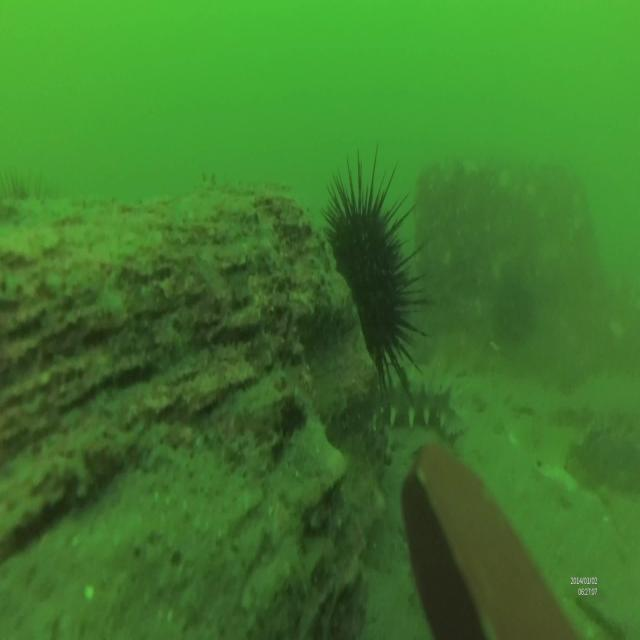echinus: (318, 144, 427, 407)
holothurian: (369, 374, 457, 435)
